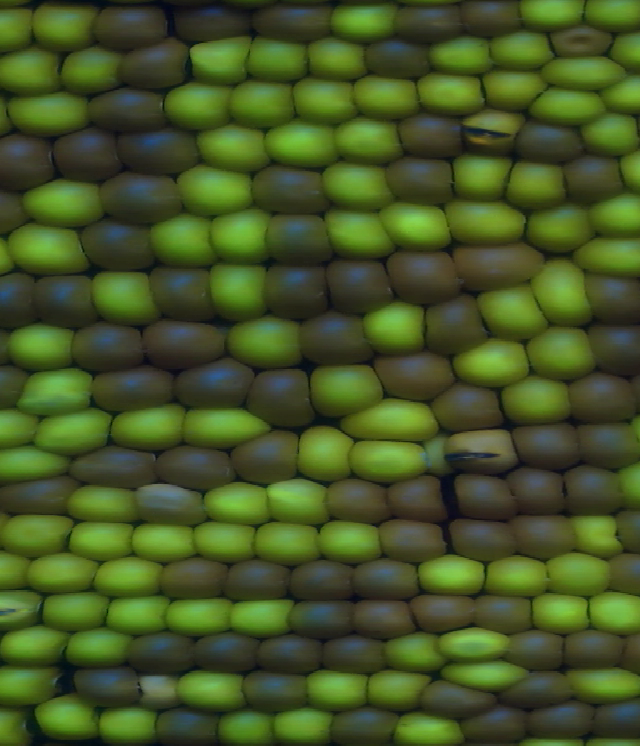fluorescent: (339, 394, 439, 442), (175, 162, 255, 217), (6, 224, 88, 277), (535, 257, 593, 327), (522, 327, 595, 382), (91, 271, 159, 330), (223, 319, 305, 367), (308, 362, 380, 416), (449, 338, 528, 387), (446, 202, 528, 249), (23, 177, 100, 225), (17, 367, 90, 417), (327, 162, 399, 212), (195, 124, 268, 173), (184, 406, 272, 446), (333, 119, 408, 165), (351, 439, 429, 483), (263, 119, 334, 167), (4, 92, 89, 132), (113, 405, 188, 450), (39, 409, 110, 456), (478, 287, 543, 338), (323, 209, 392, 257), (0, 512, 73, 557), (525, 204, 593, 252), (201, 478, 269, 526), (208, 265, 266, 321), (152, 217, 214, 269), (228, 80, 293, 129), (386, 202, 450, 251), (363, 304, 423, 356), (502, 379, 571, 424), (11, 322, 73, 372), (39, 591, 111, 634), (298, 425, 352, 482), (162, 82, 230, 127), (354, 72, 422, 117), (420, 70, 488, 115), (445, 431, 519, 472), (441, 658, 528, 692), (293, 79, 357, 125), (213, 212, 268, 265), (0, 49, 63, 95), (188, 34, 247, 83), (485, 554, 552, 597), (171, 670, 243, 710), (245, 36, 308, 81), (251, 522, 321, 562), (418, 556, 488, 596), (318, 522, 383, 565), (506, 163, 563, 212), (483, 67, 545, 112), (31, 2, 90, 49), (531, 90, 608, 126), (308, 667, 368, 713), (128, 519, 195, 560), (454, 152, 511, 200), (0, 627, 72, 665), (546, 55, 626, 89), (35, 697, 98, 740), (163, 597, 230, 637), (570, 237, 640, 275), (59, 47, 118, 92), (65, 521, 131, 561), (367, 670, 427, 714), (485, 33, 553, 71), (548, 554, 608, 597), (308, 36, 365, 81), (269, 479, 324, 525), (0, 447, 68, 484), (230, 596, 293, 635), (0, 667, 63, 705), (534, 592, 591, 634), (67, 487, 133, 523), (574, 668, 640, 704), (194, 522, 253, 562), (466, 108, 517, 154), (66, 631, 133, 666), (108, 598, 168, 637), (96, 705, 159, 742), (388, 632, 443, 674), (273, 706, 332, 745), (329, 5, 396, 39), (439, 631, 510, 663), (591, 588, 640, 634), (589, 195, 640, 239), (431, 36, 493, 72), (392, 714, 469, 742), (218, 710, 275, 746), (583, 114, 635, 153), (573, 512, 618, 557), (0, 591, 44, 631), (586, 1, 640, 31), (0, 409, 39, 449), (525, 2, 586, 27), (608, 74, 640, 117), (0, 10, 32, 52), (610, 33, 640, 72), (0, 553, 31, 590)
nonfluorescent: (390, 248, 464, 305), (171, 360, 253, 411), (98, 172, 181, 222), (376, 352, 459, 400), (251, 368, 317, 427), (253, 166, 328, 217), (94, 3, 172, 52), (96, 368, 178, 414), (143, 322, 223, 369), (72, 324, 147, 374), (263, 265, 331, 320), (455, 243, 543, 285), (120, 40, 192, 91), (426, 296, 492, 351), (118, 127, 197, 172), (81, 217, 152, 267), (88, 87, 164, 133), (146, 267, 213, 319), (572, 373, 639, 425), (325, 259, 391, 311), (51, 131, 119, 181), (384, 158, 452, 208), (128, 630, 197, 679), (431, 384, 501, 432), (152, 448, 236, 488), (233, 431, 298, 482), (565, 152, 625, 207), (302, 312, 368, 362), (160, 555, 228, 602), (35, 274, 93, 329), (447, 468, 513, 516), (326, 476, 393, 523), (256, 633, 324, 679), (448, 517, 518, 561), (71, 449, 152, 487), (513, 122, 581, 167), (499, 672, 574, 712), (413, 591, 478, 637), (515, 423, 578, 470), (421, 680, 498, 718), (394, 3, 465, 44), (0, 476, 76, 514), (381, 517, 449, 559), (268, 221, 330, 267), (580, 422, 640, 468), (398, 114, 462, 157), (464, 703, 528, 746), (0, 135, 50, 190), (446, 427, 513, 468), (252, 4, 330, 39), (225, 562, 293, 602), (170, 7, 252, 40), (517, 517, 578, 561), (559, 631, 626, 671), (353, 596, 413, 640), (71, 667, 138, 706), (591, 322, 640, 375), (586, 275, 640, 323), (320, 637, 388, 675), (197, 631, 258, 673), (238, 672, 311, 707), (352, 560, 419, 598), (138, 481, 200, 522), (328, 705, 396, 742), (155, 707, 218, 746), (567, 465, 619, 512), (287, 563, 353, 600), (289, 602, 351, 640), (550, 25, 617, 60), (460, 1, 520, 40), (0, 274, 40, 332), (530, 701, 591, 739), (516, 469, 568, 513), (508, 630, 565, 670), (363, 39, 428, 74), (475, 597, 532, 636), (390, 478, 443, 519), (592, 700, 640, 736), (610, 507, 640, 555)
